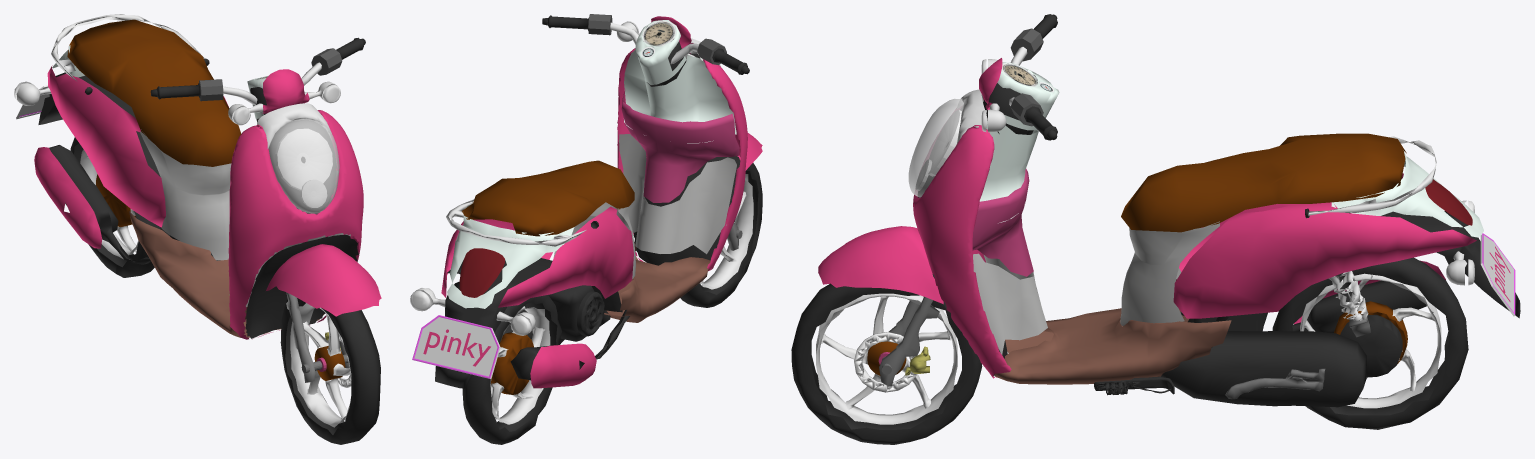
Rendered from motor.glb.
3 renders of one model, left to right at view 1: azimuth 30°, elevation 25°; view 2: azimuth 150°, elevation 25°; view 3: azimuth 270°, elevation 25°, orthographic. The views are drawn at different scales.
Parts seen in each view (by area): view 1: body, fork_front, roda_F, roda_R; view 2: body, fork_front, roda_R, roda_F; view 3: body, fork_front, roda_F, roda_R.
Boxes of the visible parts, x1=… form: body: x1=14, y1=14, x2=363, y2=339; fork_front: x1=150, y1=37, x2=381, y2=382; roda_F: x1=280, y1=298, x2=380, y2=444; roda_R: x1=70, y1=137, x2=154, y2=277; body: x1=410, y1=48, x2=747, y2=388; fork_front: x1=542, y1=14, x2=762, y2=250; roda_R: x1=462, y1=295, x2=561, y2=444; roda_F: x1=680, y1=163, x2=762, y2=307; body: x1=913, y1=97, x2=1520, y2=407; fork_front: x1=818, y1=14, x2=1059, y2=386; roda_F: x1=791, y1=283, x2=982, y2=444; roda_R: x1=1272, y1=257, x2=1468, y2=429.
Bounding box in the file's own units: 0.7372 × 1.09 × 1.89.
Materials: 23 (2 with a texture image).
